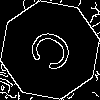C: (25, 25, 84, 81)
